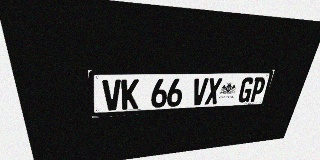6: (166, 78, 184, 107), (151, 79, 168, 108)
G: (237, 77, 255, 103)
K: (121, 79, 139, 110)
P: (249, 77, 267, 102)
V: (102, 79, 121, 111), (191, 78, 209, 106)
X: (205, 78, 222, 105)
